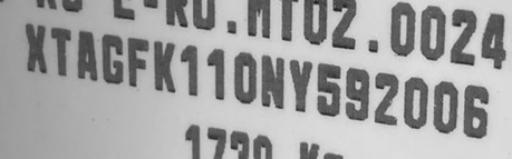letter: (429, 79, 461, 140), (462, 82, 492, 142), (371, 69, 401, 128), (228, 50, 258, 107), (342, 65, 370, 124), (286, 56, 314, 113), (316, 61, 342, 122), (74, 26, 100, 85), (401, 74, 427, 133), (20, 21, 48, 75), (260, 53, 286, 110), (152, 38, 178, 93), (203, 46, 229, 101), (178, 41, 202, 100), (100, 32, 124, 87), (126, 36, 150, 89), (48, 24, 70, 76)
